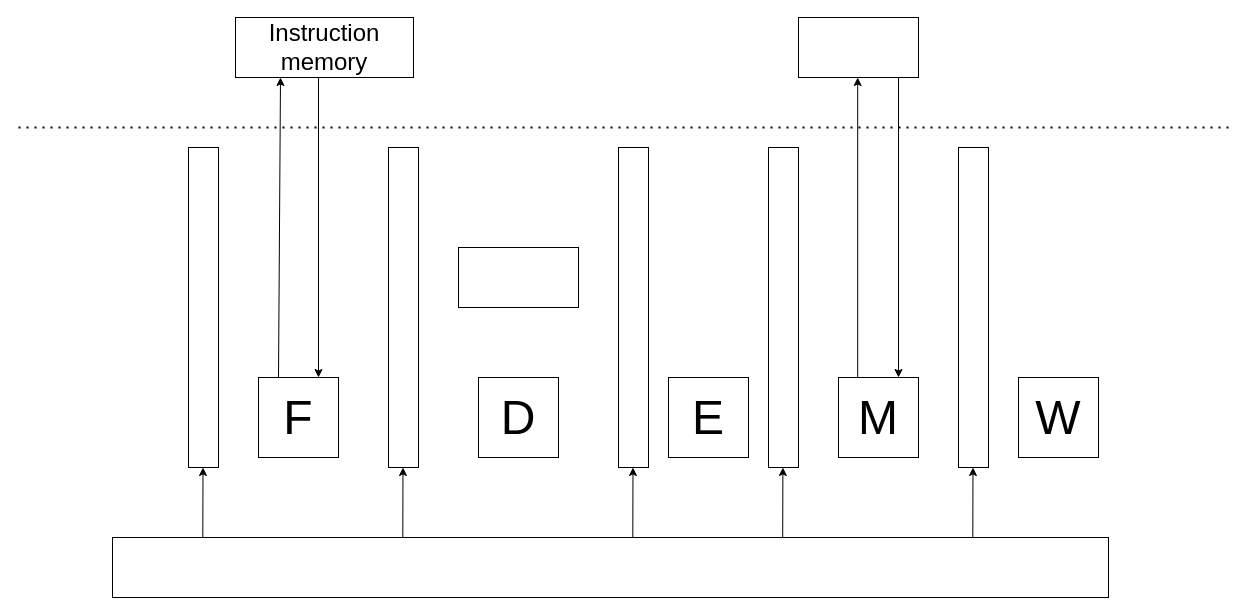
The diagram is 1247 pixels wide and 615 high, and some of its shapes have lost their labels. Each missing label, with the centre of its shape:
"Data memory" goes at pixel 858 47.
"Hazard" goes at pixel 610 567.
"Register File" goes at pixel 518 277.
